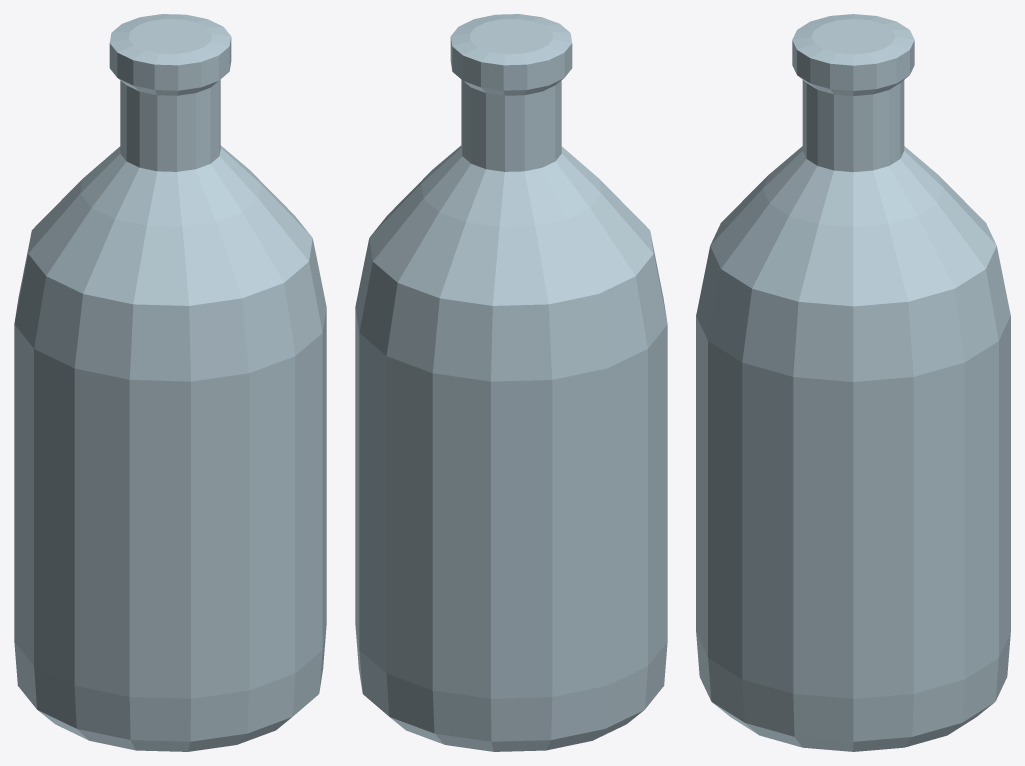
The model's file is Item_TonicBottle_AMF_T1.glb.
3 renders of one model, left to right at view 1: azimuth 30°, elevation 25°; view 2: azimuth 150°, elevation 25°; view 3: azimuth 270°, elevation 25°, orthographic.
Parts seen in each view (by area): view 1: Item_TonicBottle_AMF_T1; view 2: Item_TonicBottle_AMF_T1; view 3: Item_TonicBottle_AMF_T1.
Part boxes in pixels (left/top/right/bottom): Item_TonicBottle_AMF_T1: left=14, top=14, right=326, bottom=751; Item_TonicBottle_AMF_T1: left=355, top=14, right=667, bottom=751; Item_TonicBottle_AMF_T1: left=696, top=14, right=1010, bottom=751.
Size of what is drawn, in the model's own units: 0.09 by 0.208 by 0.09.
